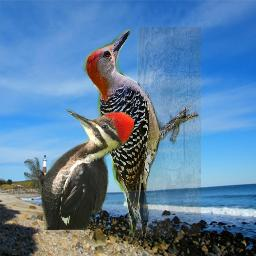Woodpecker: (78, 27, 201, 236), (24, 109, 134, 230)
